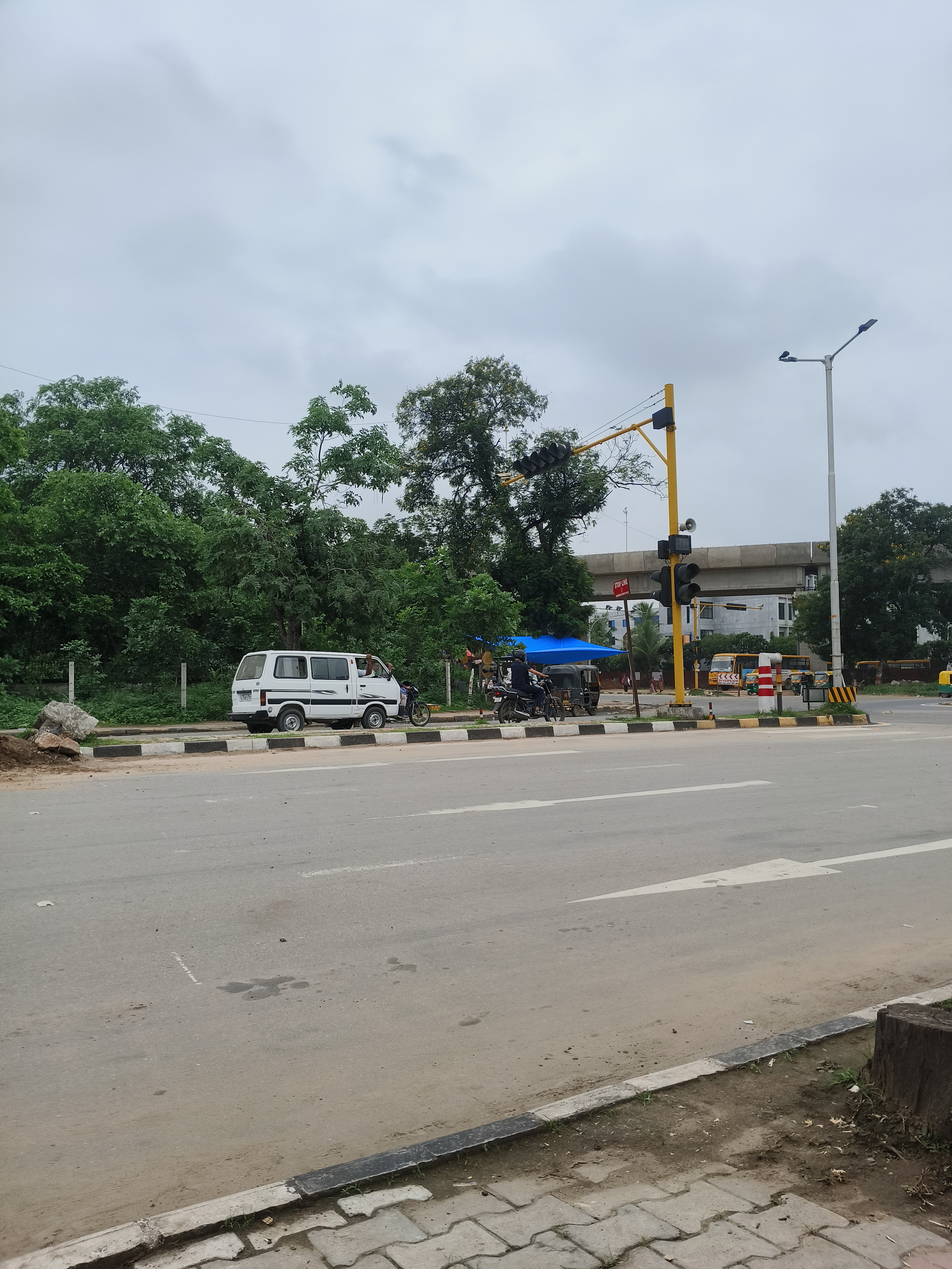BikeWithRider: (483, 644, 573, 728)
Helmet: (511, 648, 528, 666)
